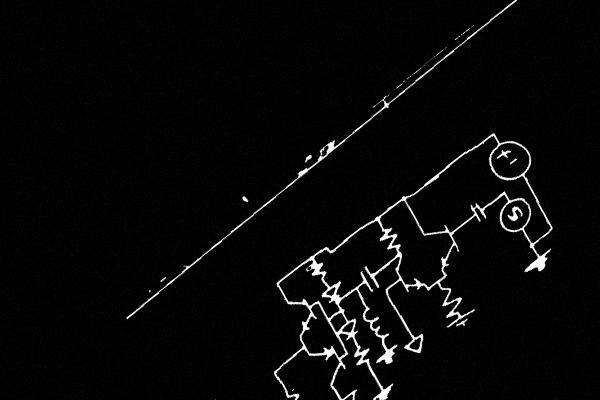capacitor: (352, 256, 389, 301), (464, 193, 494, 228)
diode: (334, 309, 366, 349), (317, 274, 351, 311)
ground: (518, 239, 561, 284), (397, 322, 435, 367), (443, 301, 483, 342), (371, 337, 408, 377), (364, 371, 402, 400), (321, 380, 370, 400)
inductor: (354, 291, 397, 352)
resistor: (428, 275, 469, 325), (373, 213, 407, 258), (346, 335, 380, 377), (302, 254, 333, 292), (272, 379, 320, 400)
signal: (491, 184, 541, 245)
voltage: (479, 122, 540, 195)
